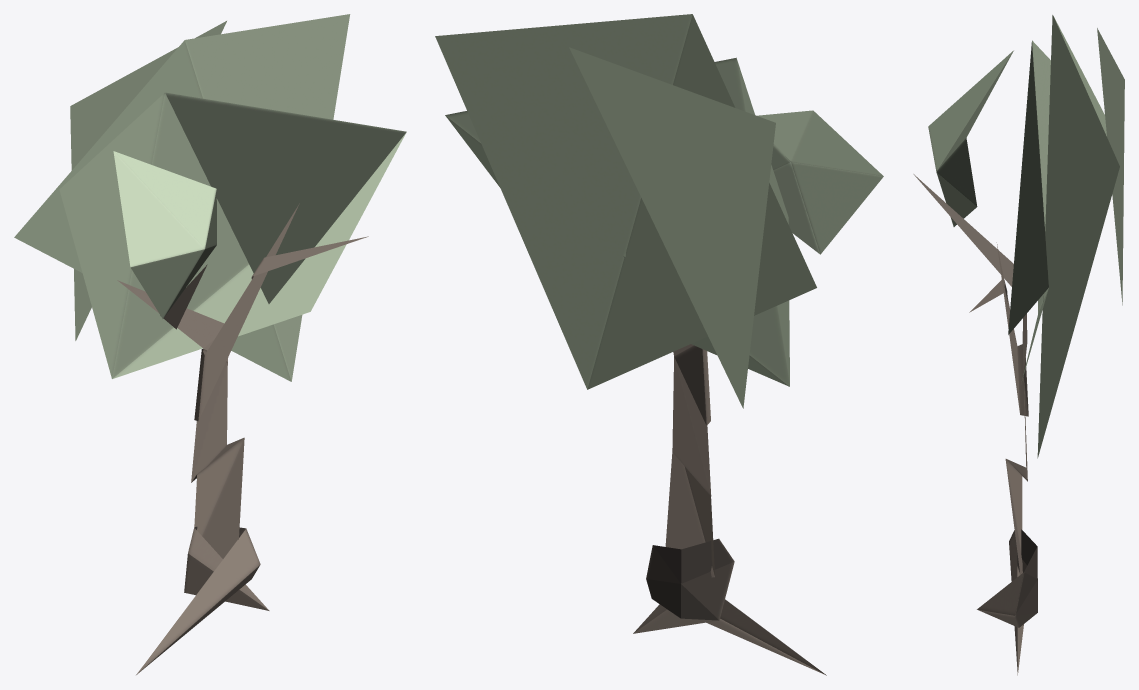
The model's file is Arbre01.FBX.
The picture shows the model from 3 angles, left to right: view 1: azimuth 30°, elevation 25°; view 2: azimuth 150°, elevation 25°; view 3: azimuth 270°, elevation 25°; orthographic projection. The views are drawn at different scales.
Parts seen in each view (by area): view 1: Tree01; view 2: Tree01; view 3: Tree01.
Part boxes in pixels (<box>): Tree01: <box>14,14,406,674</box>; Tree01: <box>435,14,883,675</box>; Tree01: <box>913,15,1124,675</box>.
Bounding box in the file's own units: 878 × 413 × 1371.
1 material, 1 textured.
